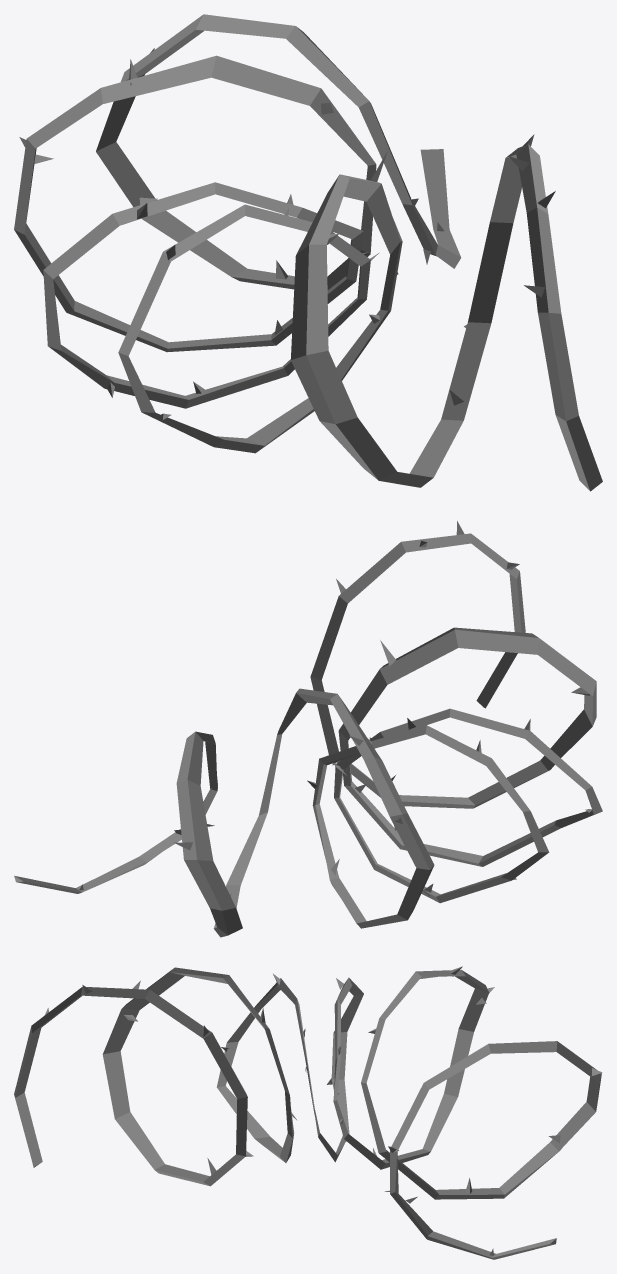
Rendered from model_barbed_wire_coil_damaged.fbx.
The picture shows the model from 3 angles, top to bottom: view 1: azimuth 30°, elevation 25°; view 2: azimuth 150°, elevation 25°; view 3: azimuth 270°, elevation 25°; orthographic projection. The views are drawn at different scales.
Visible parts, largest first — view 1: model_barbed_wire_coil_damaged; view 2: model_barbed_wire_coil_damaged; view 3: model_barbed_wire_coil_damaged.
Part boxes in pixels (x1,y1,x2,y2): model_barbed_wire_coil_damaged: [14, 14, 602, 491]; model_barbed_wire_coil_damaged: [14, 521, 602, 937]; model_barbed_wire_coil_damaged: [14, 966, 602, 1259].
Bounding box in the file's own units: 203 × 114 × 281.
1 material, 1 textured.
